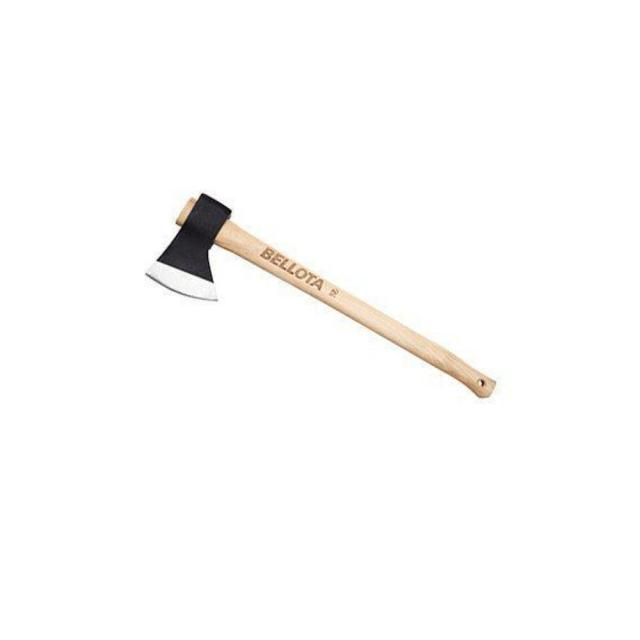Kapak: (145, 186, 510, 407)
